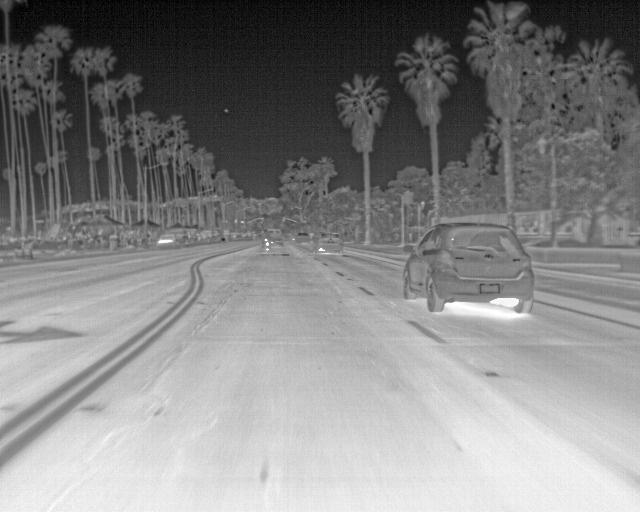bicycle: (400, 221, 534, 312), (315, 229, 343, 252), (156, 232, 179, 250), (293, 230, 309, 244)
